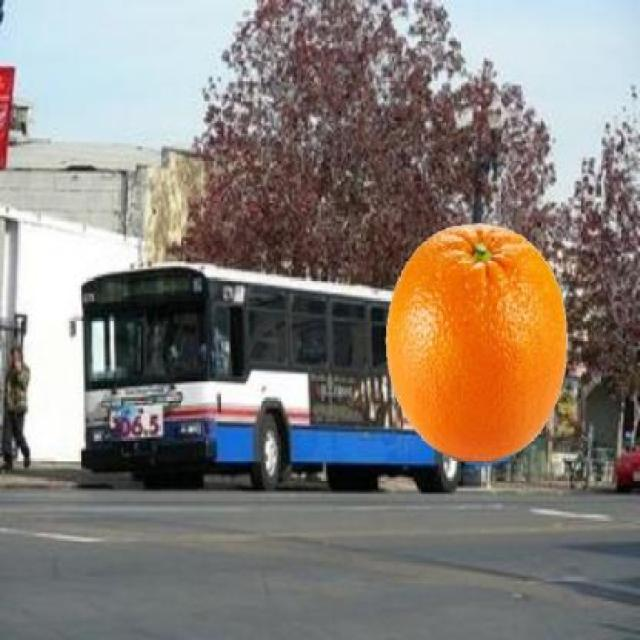Orange: (383, 220, 568, 463)
